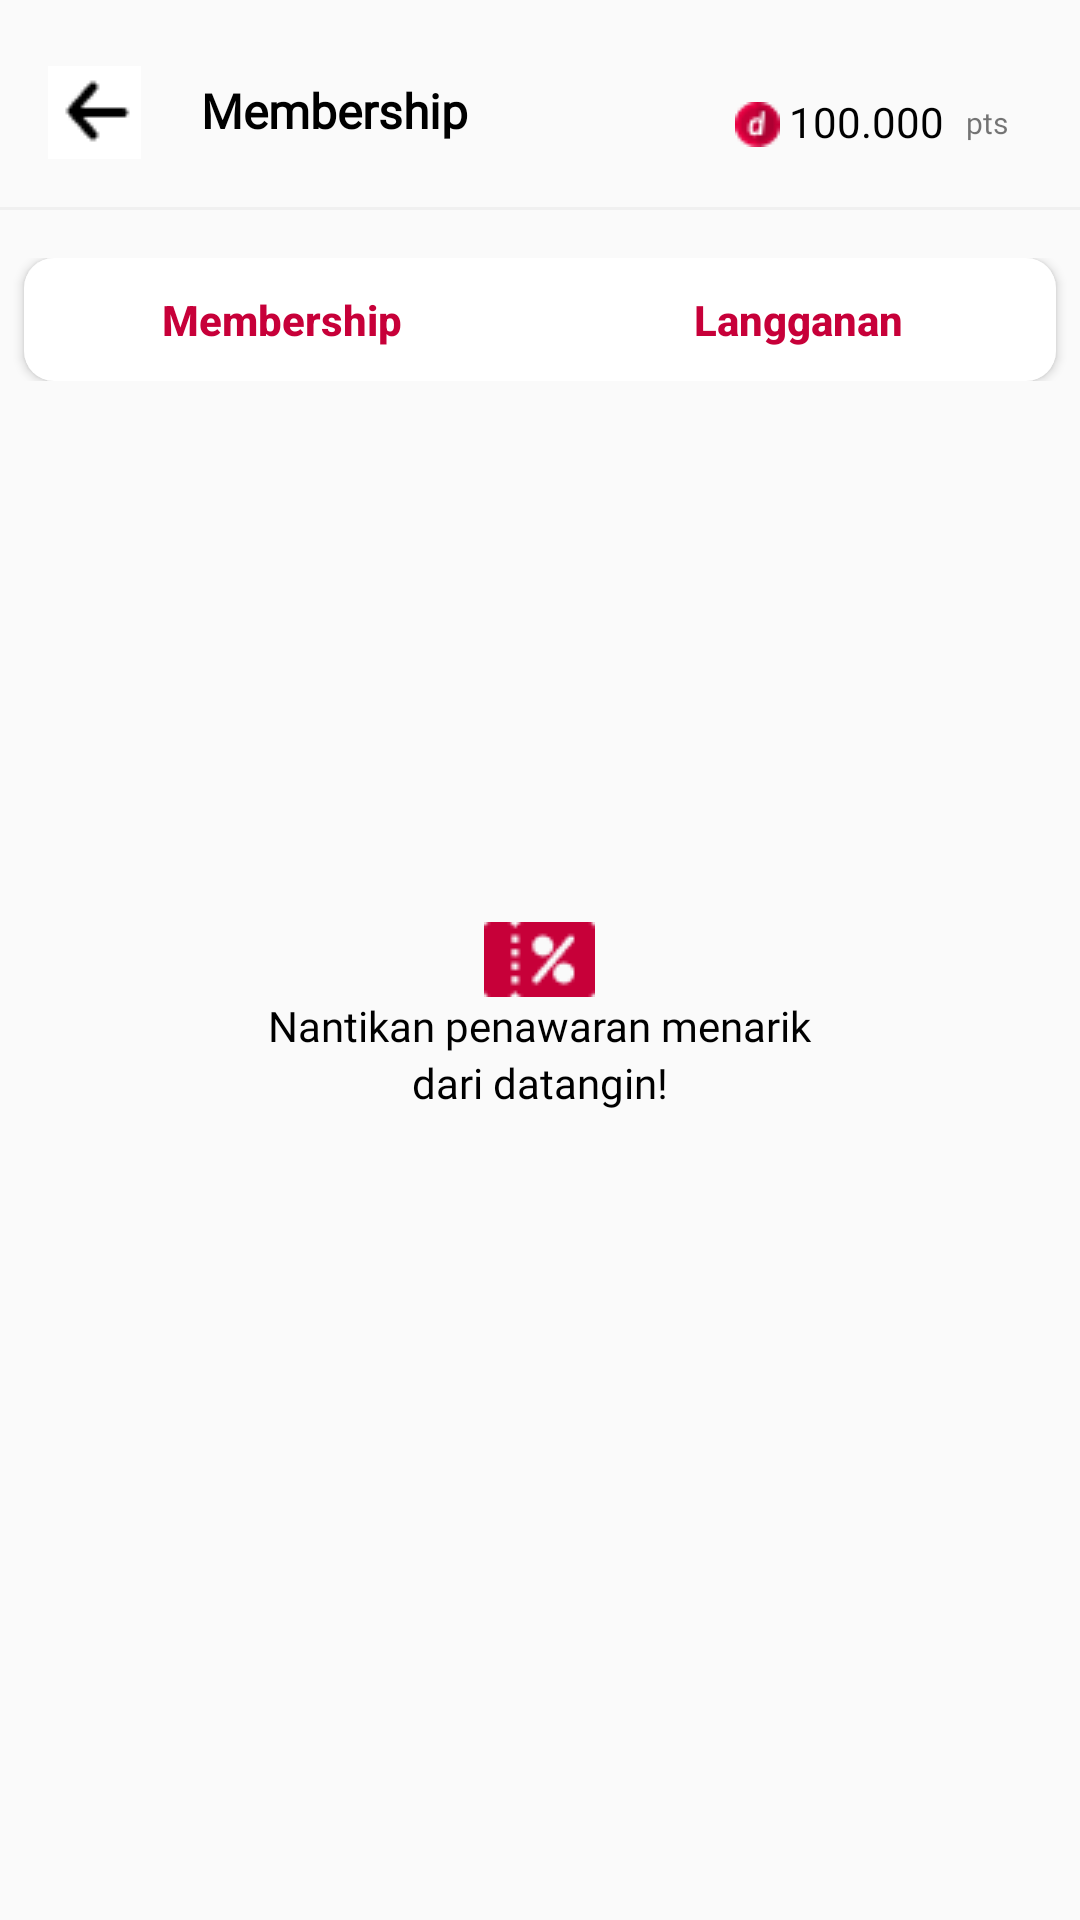

Locate icon controls on the screen. Image size 1080x1920, boxes as [x1=x1, y1=y1, x2=x2, y2=y2].
back: [x1=65, y1=80, x2=130, y2=142]
